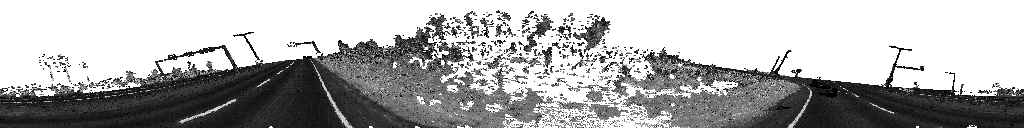gantry_sign_pole: (155, 45, 237, 82), (882, 47, 923, 93), (287, 41, 321, 60)
light_pole: (233, 33, 263, 68), (773, 51, 791, 79), (945, 72, 955, 92), (770, 57, 779, 75)
traffic_pole: (791, 71, 801, 79), (914, 83, 918, 89), (961, 85, 963, 95)
